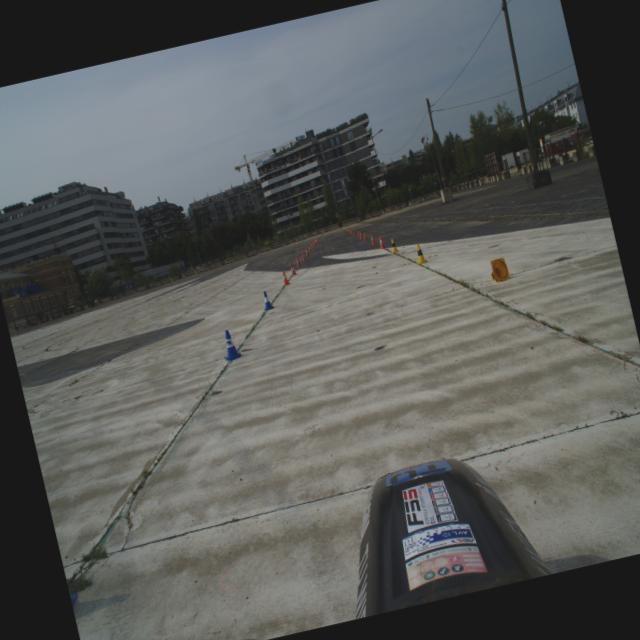blue_cone: (218, 328, 244, 362), (260, 290, 274, 310)
large_orange_cone: (314, 235, 318, 242), (346, 225, 349, 232)
orange_cone: (486, 256, 510, 282), (280, 269, 290, 286), (377, 234, 386, 248), (288, 262, 296, 276), (294, 255, 302, 268), (369, 232, 376, 244), (300, 250, 306, 260), (362, 232, 368, 242), (304, 246, 309, 255), (308, 244, 312, 252), (358, 230, 362, 238), (356, 230, 360, 237), (310, 242, 314, 248), (352, 229, 356, 235), (312, 240, 316, 246), (348, 228, 351, 233), (314, 238, 316, 244), (350, 228, 352, 234)
yellow_cone: (412, 242, 428, 264), (388, 237, 398, 253)
